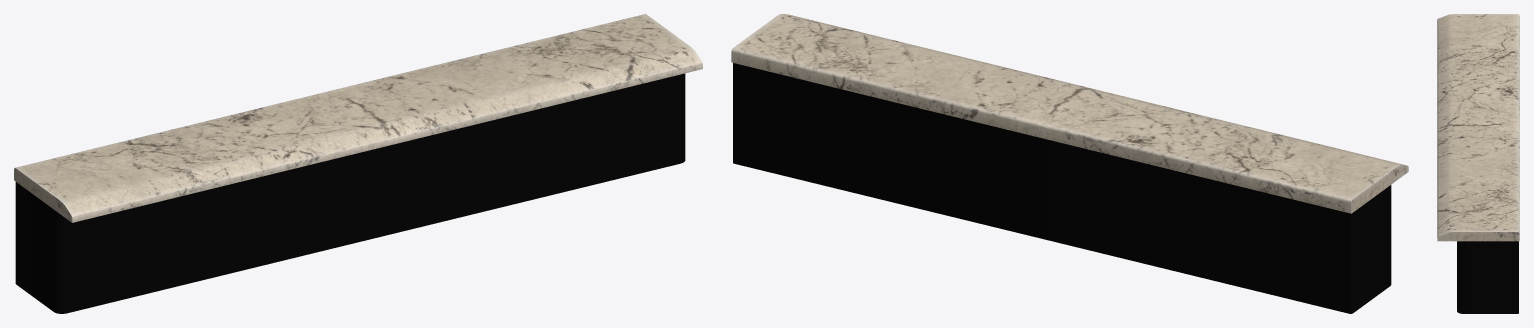
File: bar_counter.fbx
The picture shows the model from 3 angles, left to right: view 1: azimuth 30°, elevation 25°; view 2: azimuth 150°, elevation 25°; view 3: azimuth 270°, elevation 25°; orthographic projection. The views are drawn at different scales.
Visible parts, largest first — view 1: bar_counter; view 2: bar_counter; view 3: bar_counter.
Boxes of the visible parts, x1=… form: bar_counter: x1=14, y1=14, x2=702, y2=313; bar_counter: x1=731, y1=14, x2=1408, y2=313; bar_counter: x1=1437, y1=14, x2=1519, y2=313.
Size of the model in its own units: 1254 by 221 by 200.
